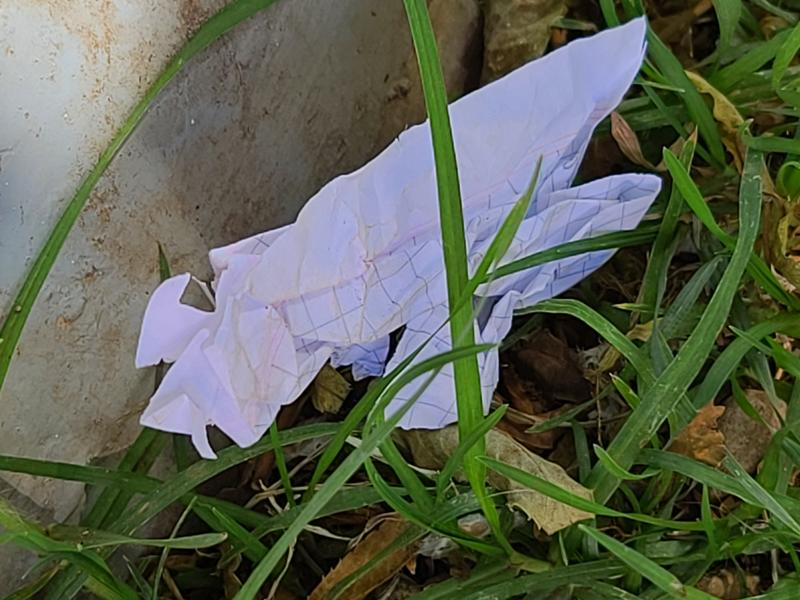papel: (135, 121, 449, 461), (448, 18, 664, 278), (473, 250, 618, 346)
